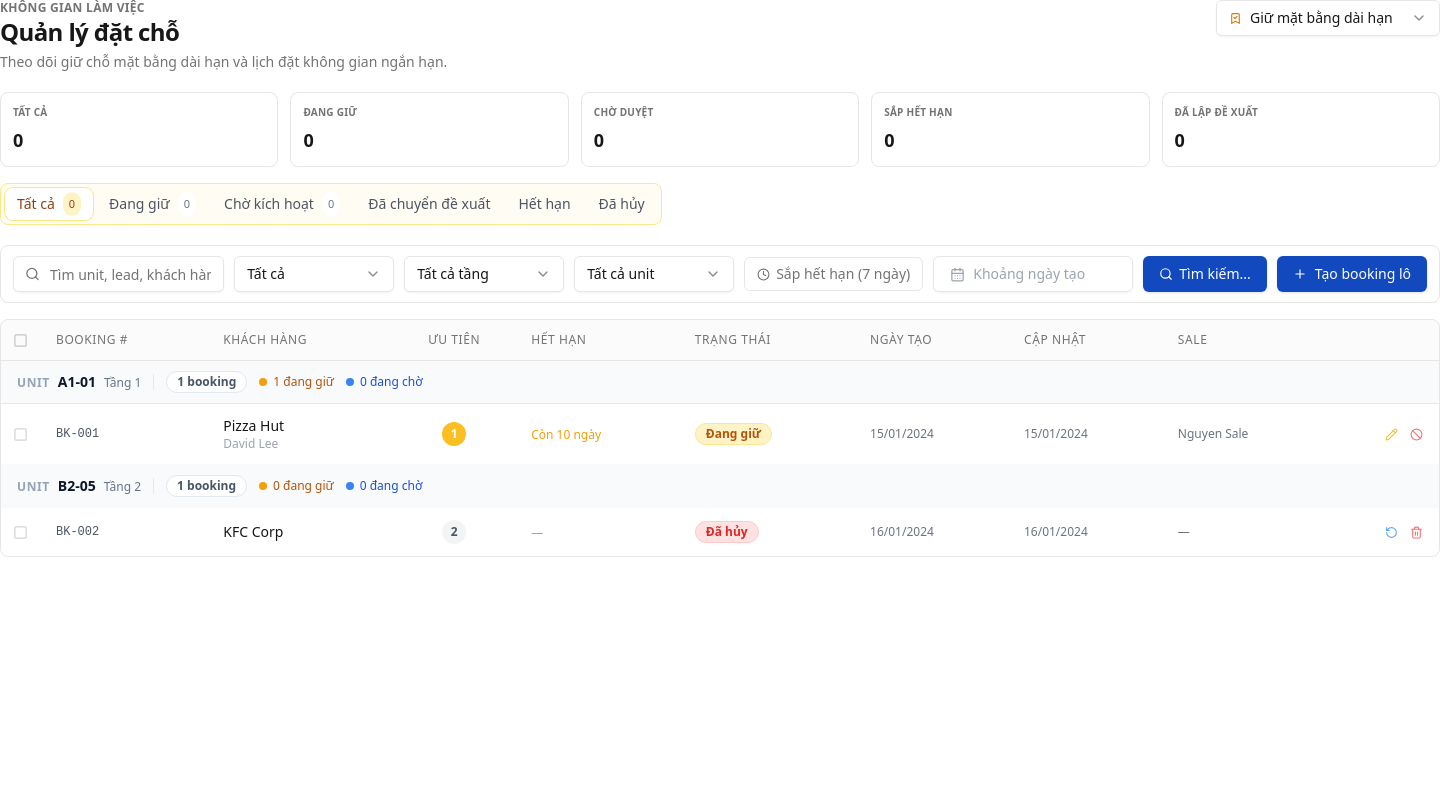
Test: BookingsPage — reinstate booking › clicking reinstate button opens confirm dialog
The width and height of the screenshot is (1440, 810).
What coordinates should you click on to do the following:
click the button titled "Khôi phục booking"
I would click on:
 (1392, 532)
Its box is top-left (1381, 522), bottom-right (1402, 542).
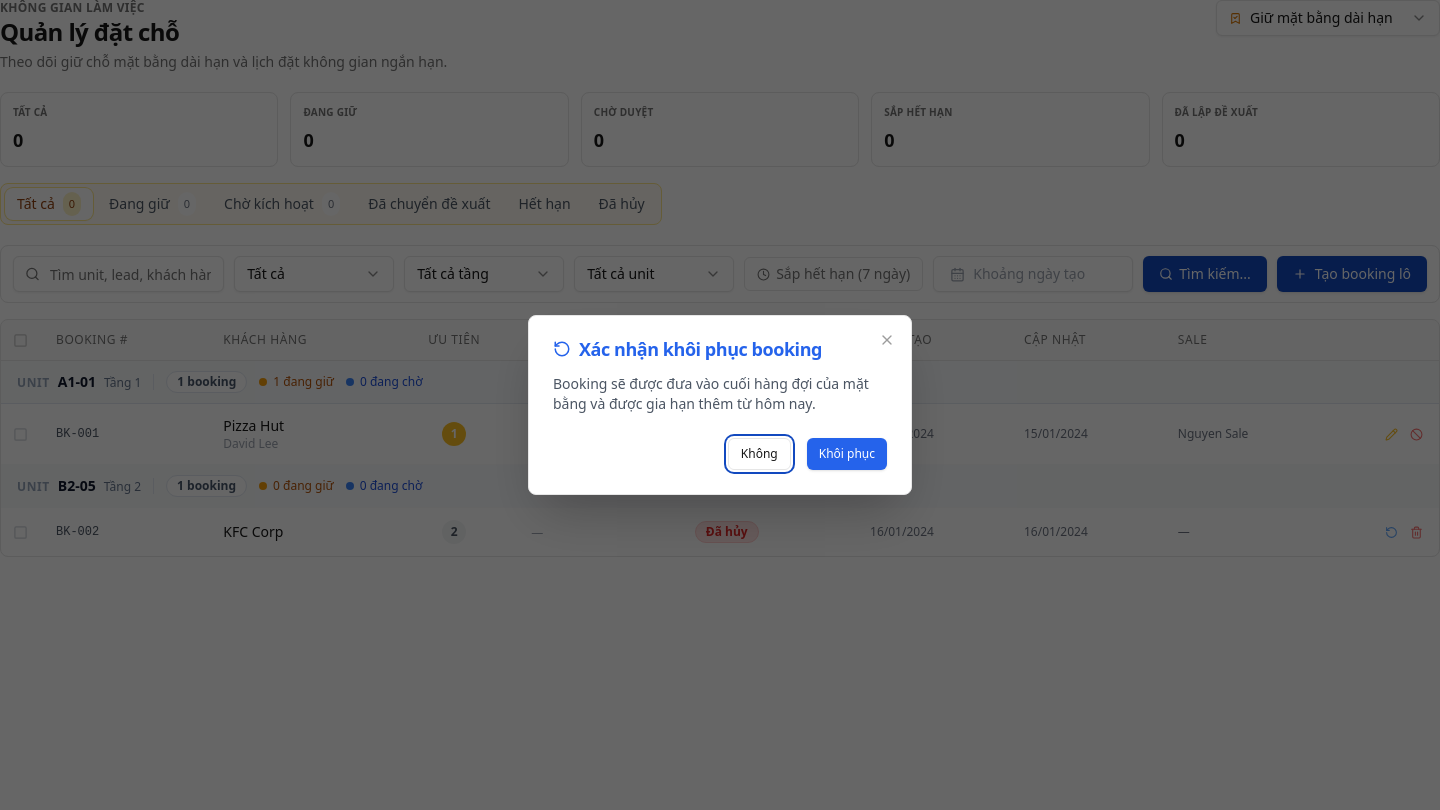
Expected: the heading "Xác nhận khôi phục booking" is shown, top-left (553, 337), bottom-right (822, 361)
